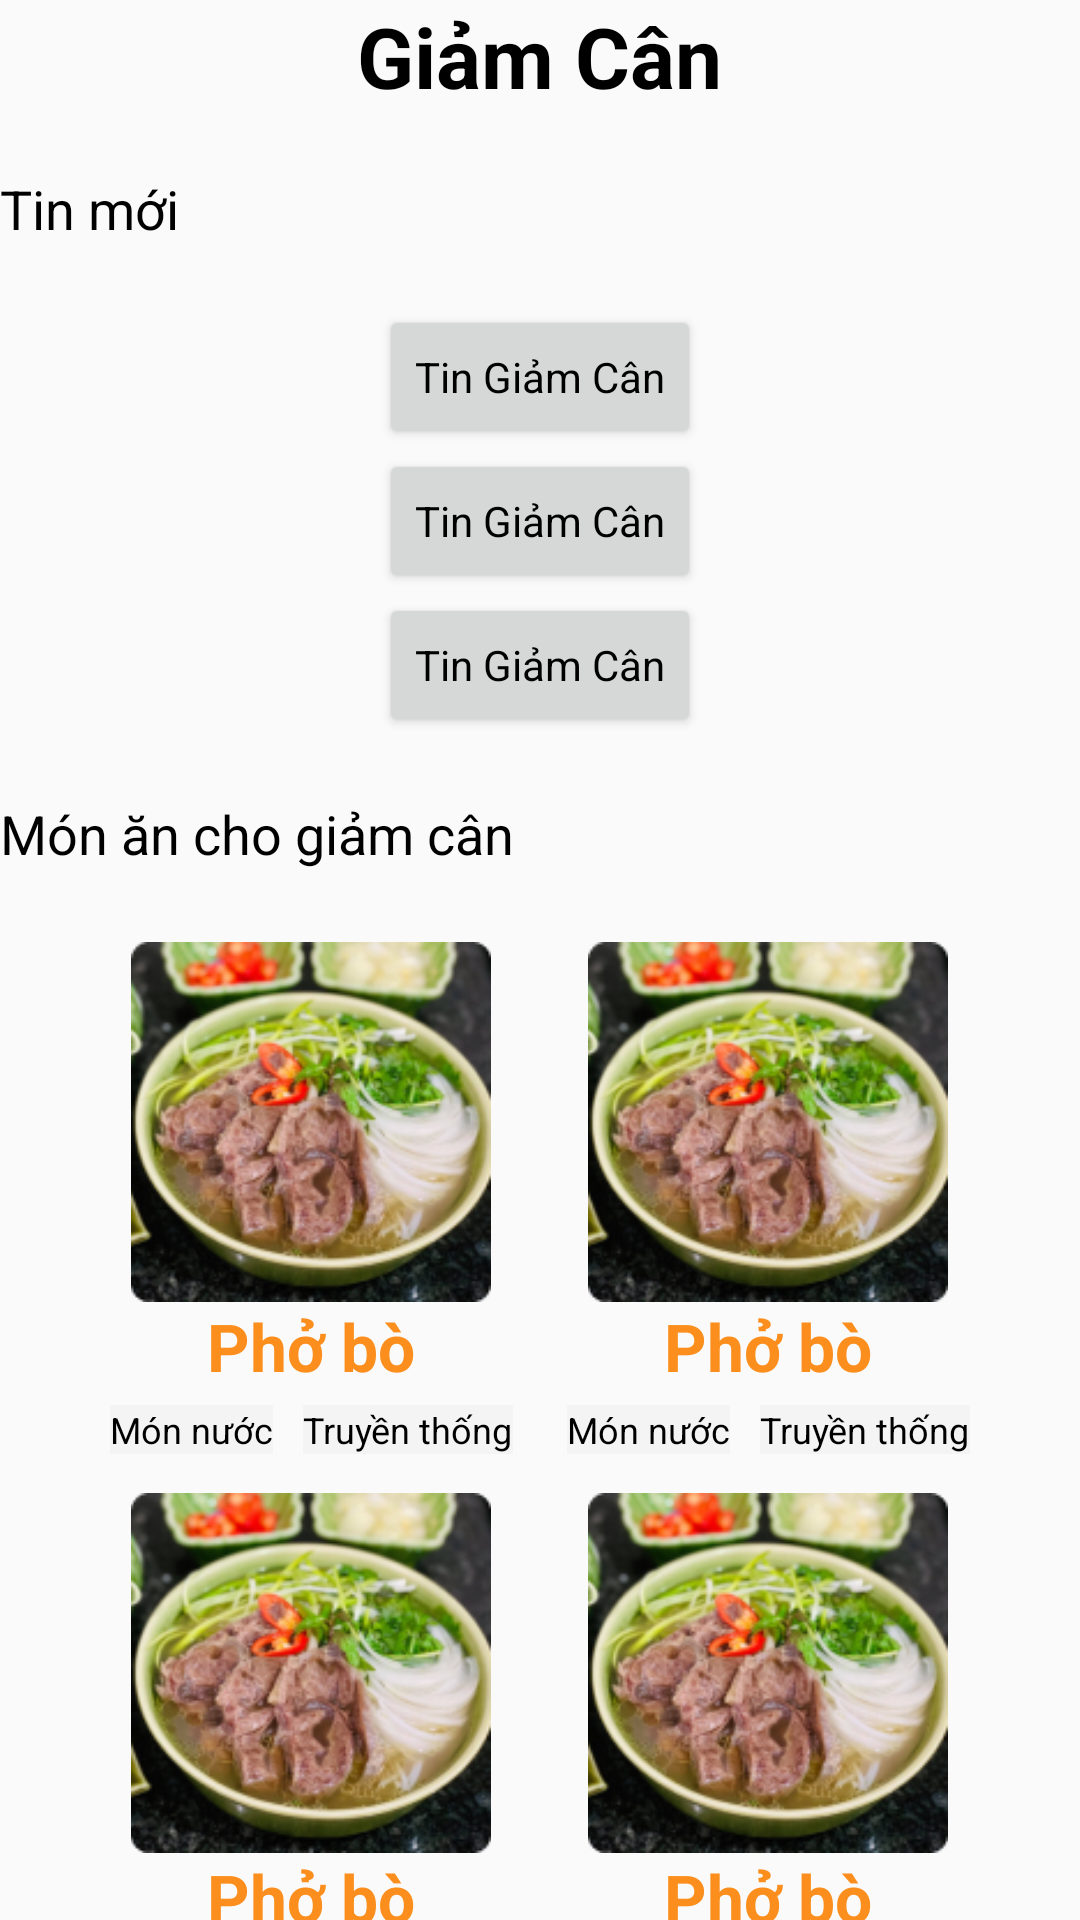

Screen size 1080px×1920px. Icon name, then its center in pixels as (x=x, y=y):
food: (x=311, y=1122), (x=768, y=1122), (x=311, y=1673), (x=768, y=1673)
